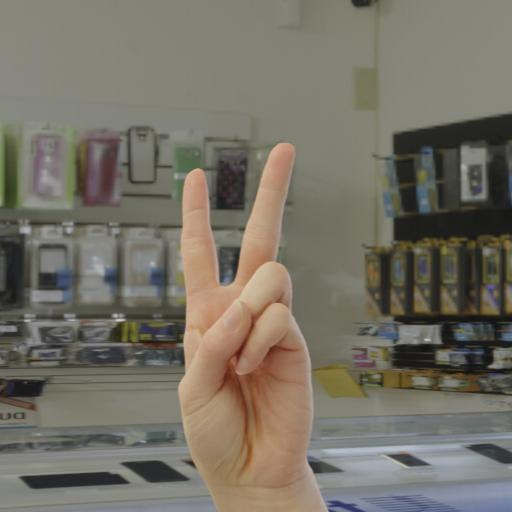V: (140, 130, 366, 496)
